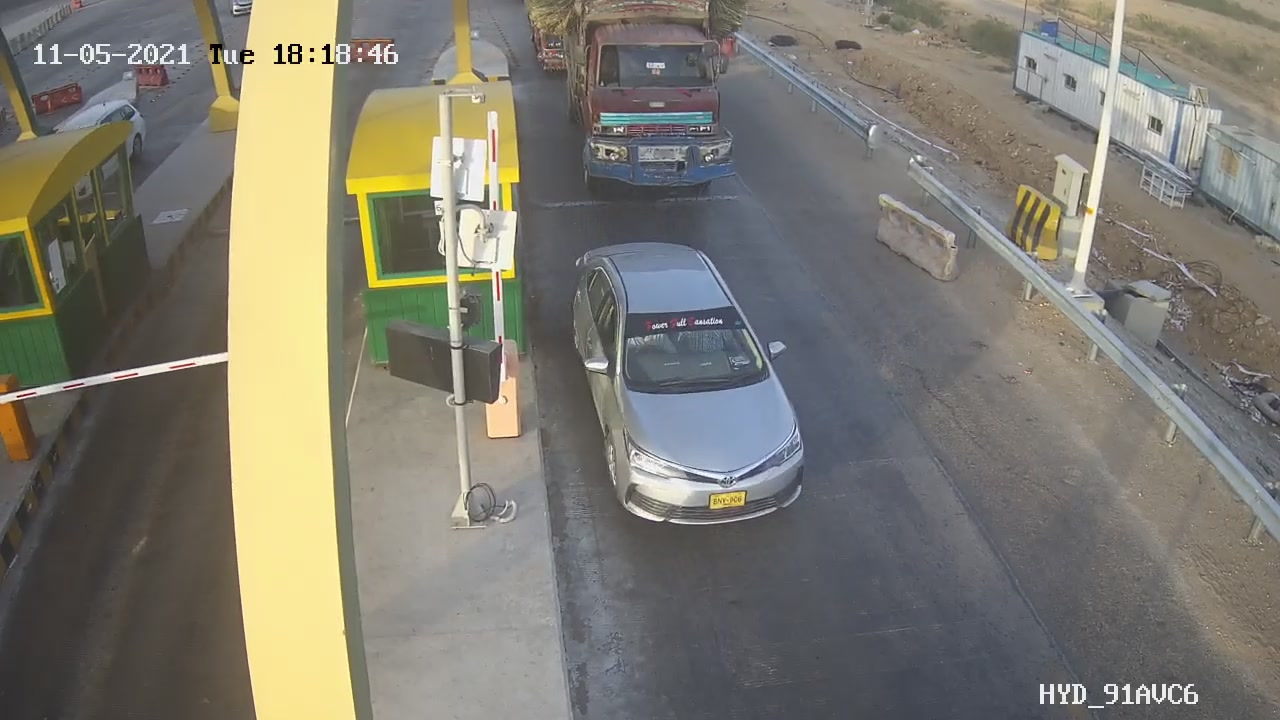F1: (557, 241, 813, 532)
F5: (558, 10, 757, 198)
